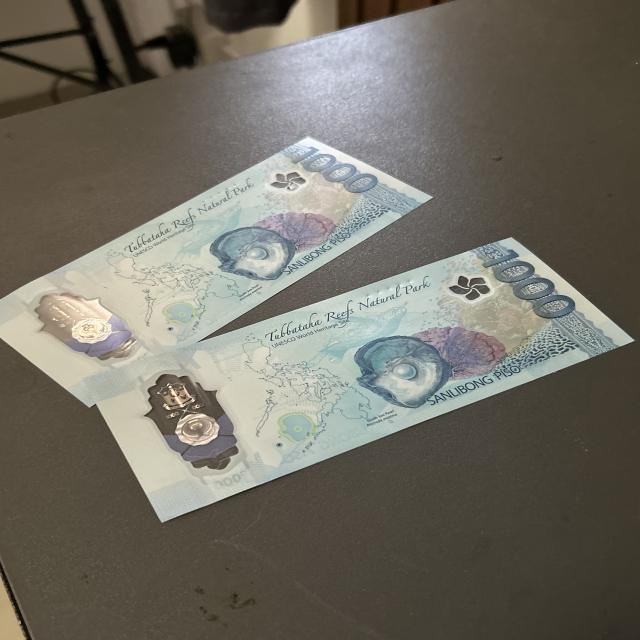clear_window: (150, 371, 242, 484), (22, 283, 142, 362)
sampaguita: (447, 269, 492, 304), (263, 165, 311, 191)
value: (476, 249, 574, 317), (292, 147, 386, 195)
